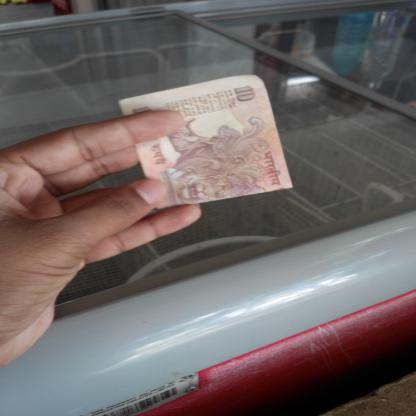Old10Back: (119, 75, 292, 208)
